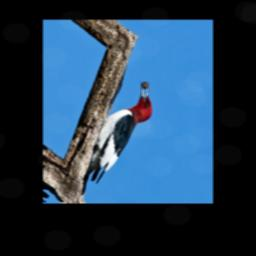Woodpecker: (70, 77, 167, 188)
